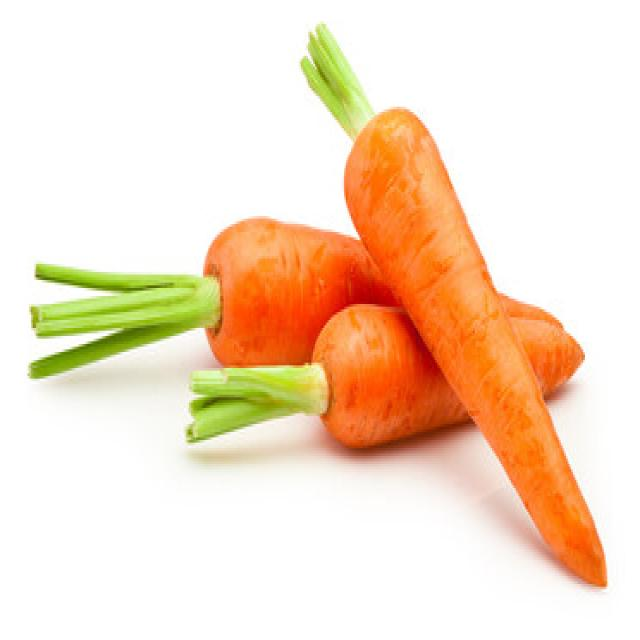Beetroot: (184, 291, 583, 448)
Carrot: (300, 21, 608, 587), (26, 213, 399, 379), (495, 288, 585, 397)
